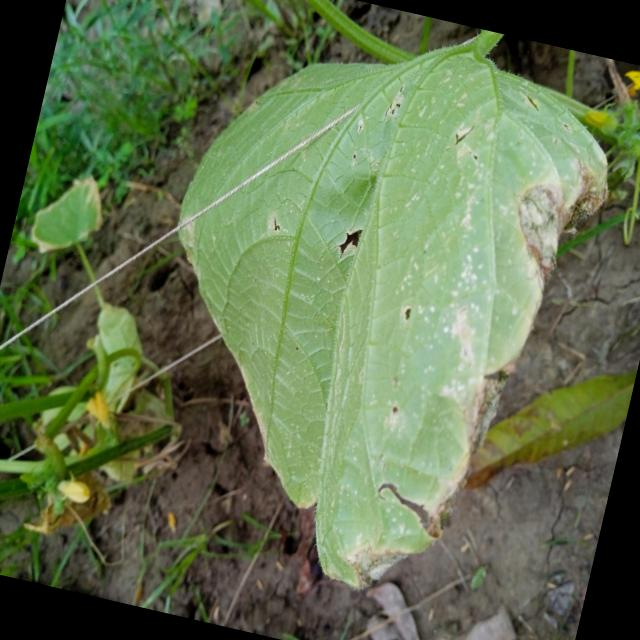cucumber_gummy: (99, 0, 640, 632)
